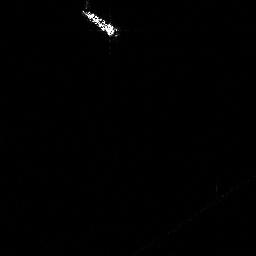ship: (82, 8, 116, 36)
